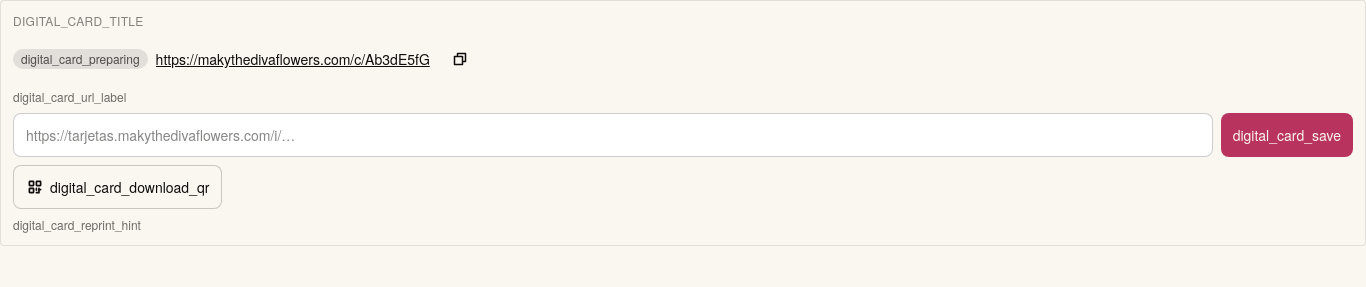
it: DigitalCardSection › shows the generic error when clipboard.writeText rejects
The width and height of the screenshot is (1366, 287).
What coordinates should you click on to do the following:
click the button named "digital_card_copy"
I would click on:
 (460, 59)
Its box is [438,37,482,81].
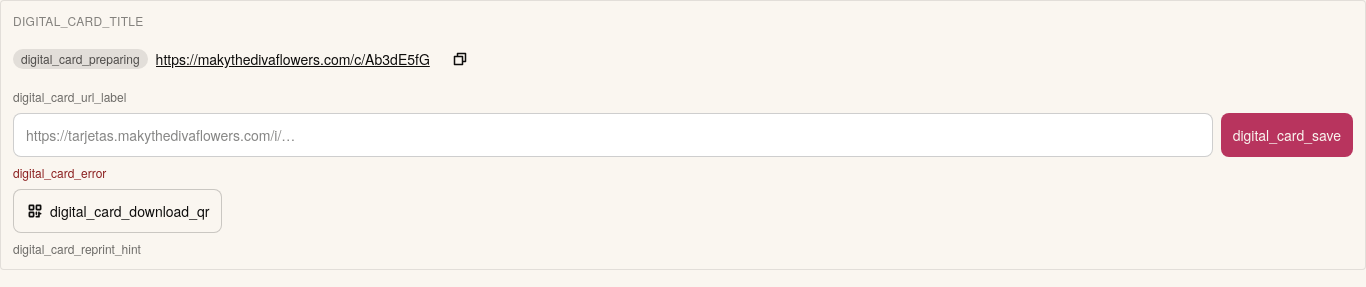
Result: the message reads "digital_card_error" at [13,164,106,181]
